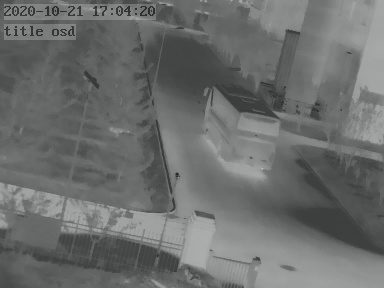vehicle: (200, 82, 278, 173)
